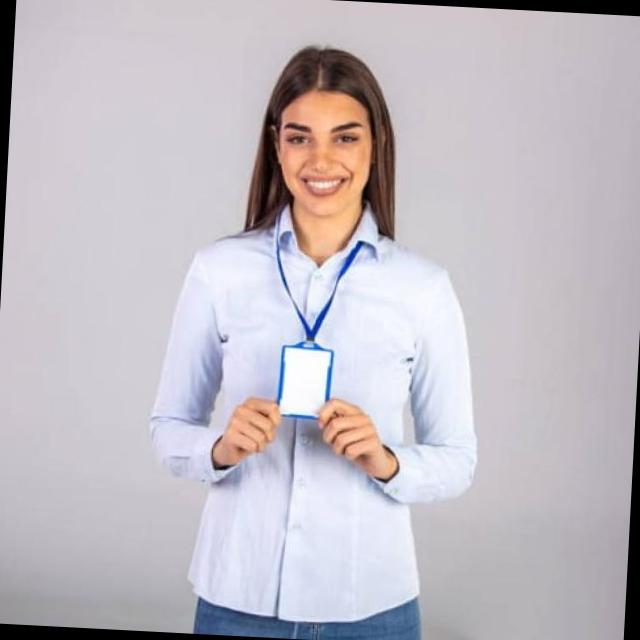id_card: (260, 241, 370, 424)
